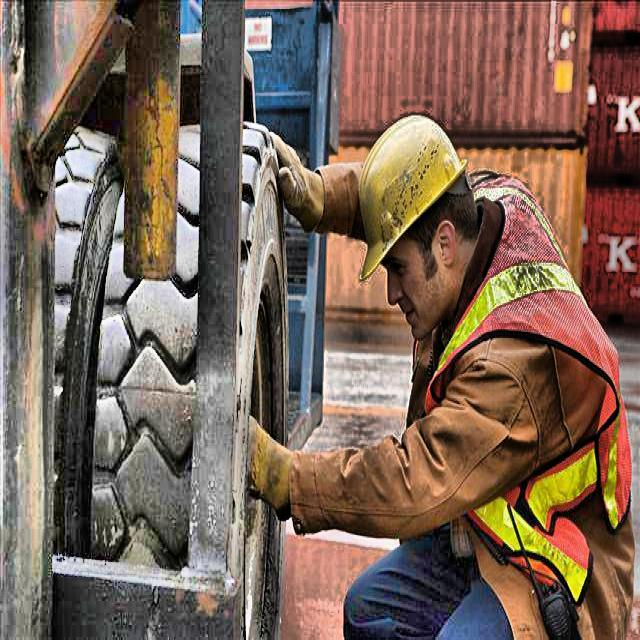helmet: (332, 98, 501, 344)
